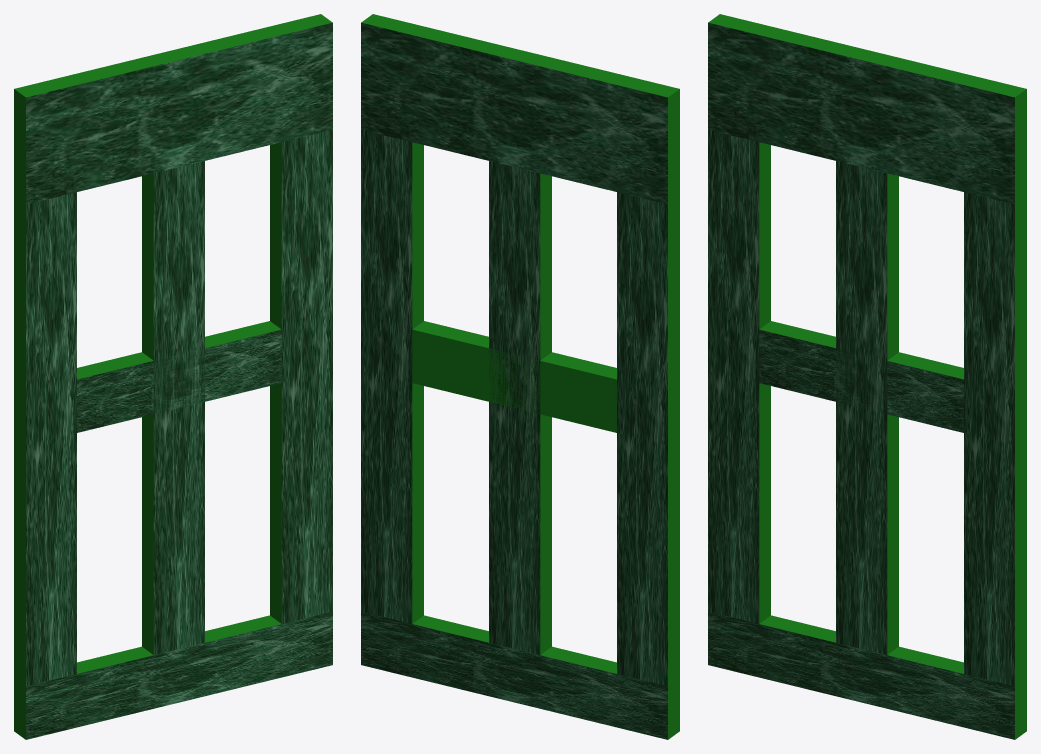
Rendered from WINDOW.OBJ.
The picture shows the model from 3 angles, left to right: view 1: azimuth 30°, elevation 25°; view 2: azimuth 150°, elevation 25°; view 3: azimuth 330°, elevation 25°; orthographic projection.
Parts seen in each view (by area): view 1: Object.2, Object.3, Object.4, Object.5, Object.1, Object.6; view 2: Object.2, Object.3, Object.4, Object.5, Object.1, Object.6; view 3: Object.2, Object.4, Object.3, Object.5, Object.1, Object.6.
Boxes of the visible parts, x1,y1,x2,y2 form: Object.2: (14, 14, 332, 204); Object.3: (14, 192, 76, 686); Object.4: (270, 129, 332, 623); Object.5: (142, 161, 204, 654); Object.1: (14, 611, 332, 739); Object.6: (77, 321, 281, 432); Object.2: (361, 14, 679, 204); Object.3: (617, 192, 679, 686); Object.4: (361, 129, 423, 623); Object.5: (489, 161, 551, 654); Object.1: (361, 611, 679, 739); Object.6: (412, 321, 616, 432); Object.2: (708, 14, 1026, 204); Object.4: (964, 192, 1026, 686); Object.3: (708, 129, 770, 623); Object.5: (836, 161, 898, 654); Object.1: (708, 611, 1026, 739); Object.6: (759, 321, 963, 432).
Bounding box in the file's own units: 30 × 60 × 2.
